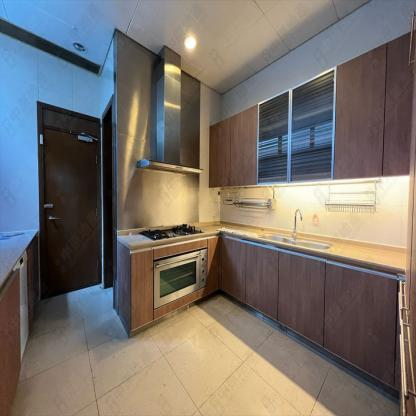Cupboard: (208, 31, 416, 188), (220, 234, 400, 386)
Exhaust Hood: (135, 45, 203, 175)
Faucet: (291, 207, 304, 235)
Oven: (153, 247, 208, 309)
Sink: (254, 234, 333, 250)
Stove: (139, 223, 203, 242)
